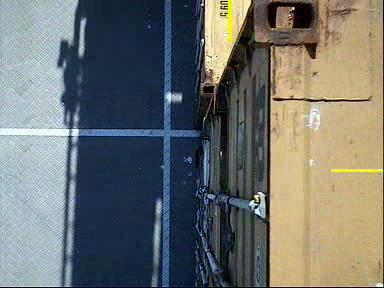groundmarker_2: (65, 144, 153, 199)
